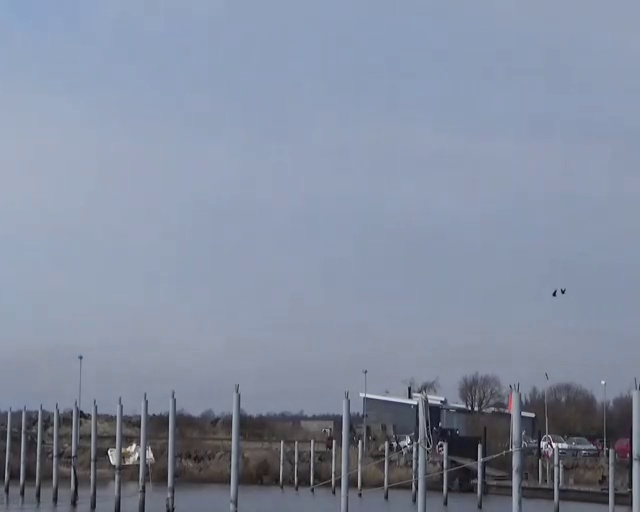BIRD: (552, 287, 566, 296)
